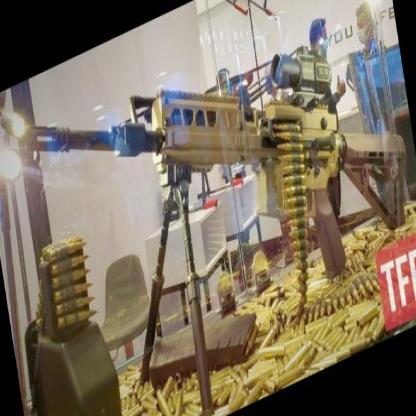rifle: (20, 0, 412, 403)
